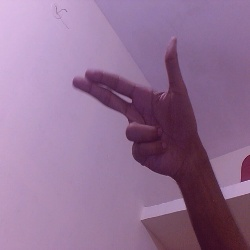hand: (65, 33, 214, 180)
